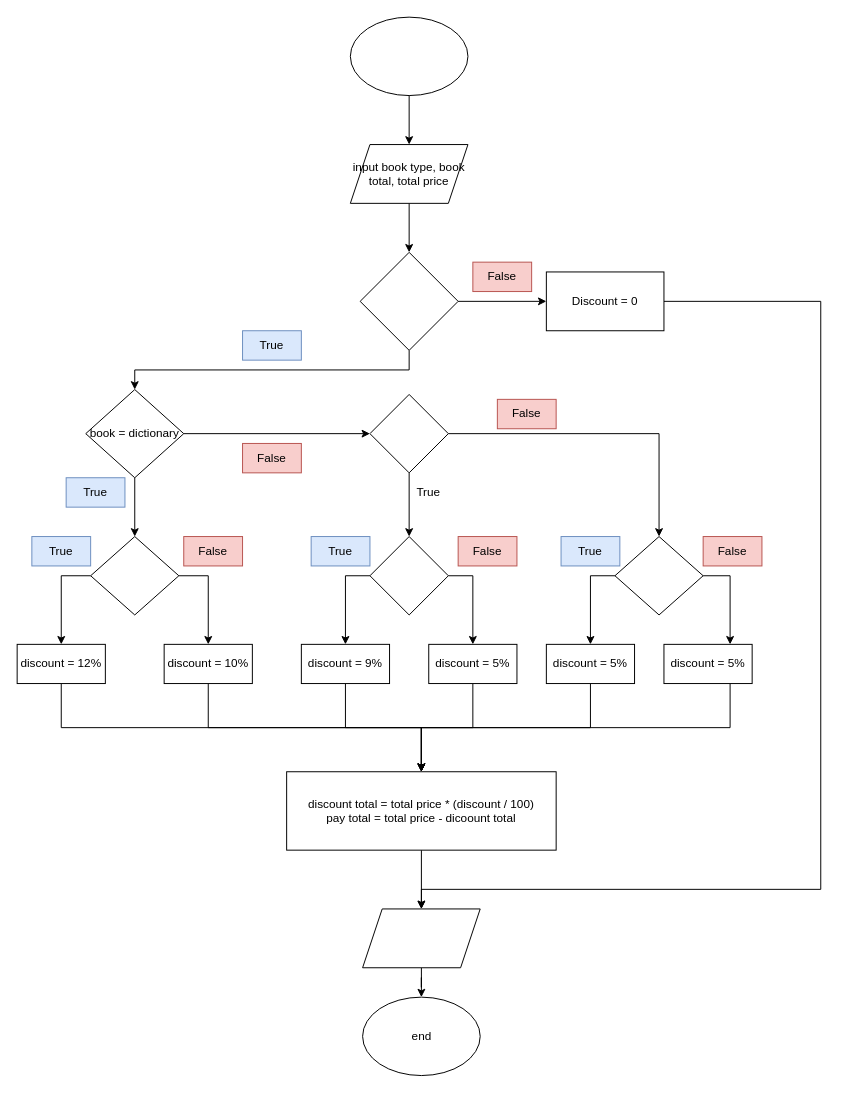
Image size: 846x1093. Some labels were removed from this diagram. Here are the shapes that lost their labels. From the top down, the centre of each, then its label:
pixel 408 56: start
pixel 408 300: wednesday?
pixel 408 433: book = novel
pixel 134 575: book quantity >2
pixel 408 575: book quantity > 3
pixel 658 575: book > 3
pixel 421 938: output : discount total & pay total
